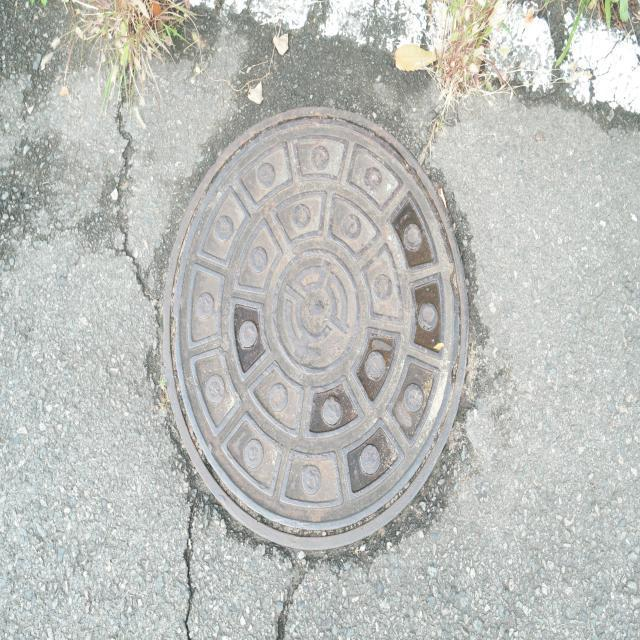manhole: (157, 107, 477, 557)
